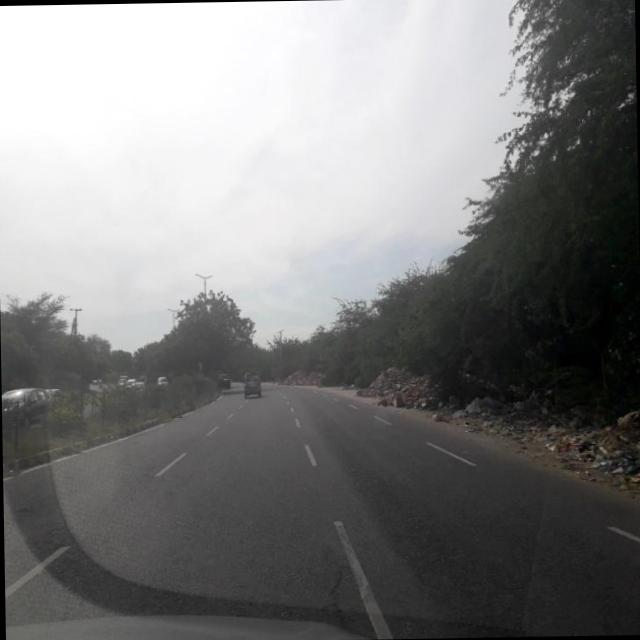pothole: (318, 526, 357, 636)
